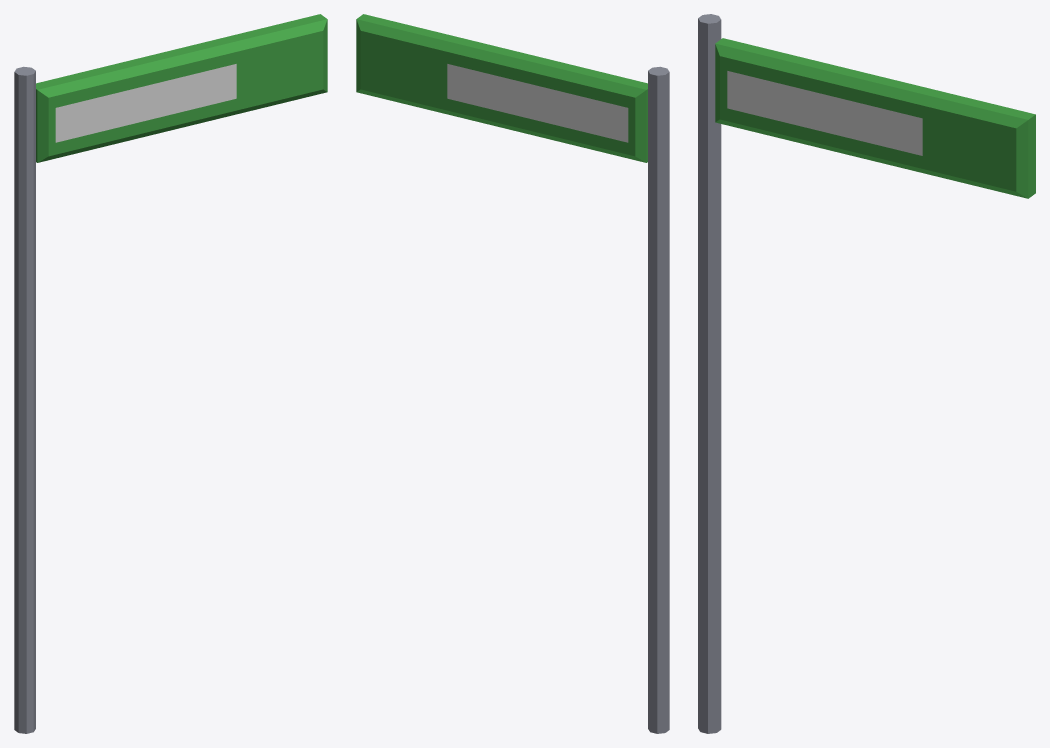
Rendered from roadSignSmall.fbx.
3 renders of one model, left to right at view 1: azimuth 30°, elevation 25°; view 2: azimuth 150°, elevation 25°; view 3: azimuth 330°, elevation 25°, orthographic. The views are drawn at different scales.
Visible parts, largest first — view 1: smallRoadSign; view 2: smallRoadSign; view 3: smallRoadSign.
Part boxes in pixels (x1=…): smallRoadSign: x1=14, y1=14, x2=327, y2=733; smallRoadSign: x1=356, y1=14, x2=669, y2=733; smallRoadSign: x1=698, y1=14, x2=1035, y2=733.
Bounding box in the file's own units: 103 × 212 × 8.09.
1 material, 1 textured.
